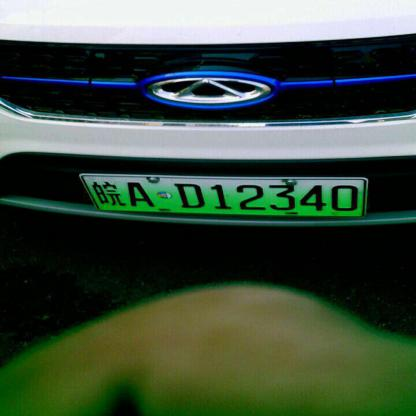lp: (83, 176, 364, 215)
